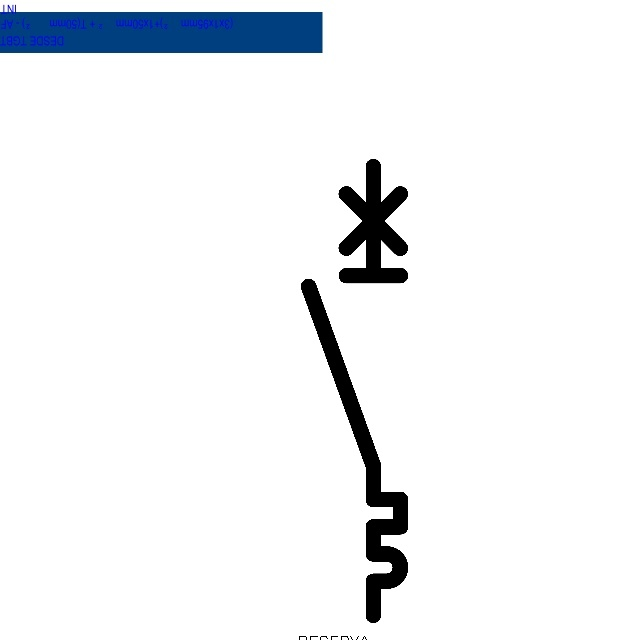interruptor_termomagnetico: (297, 155, 412, 627)
